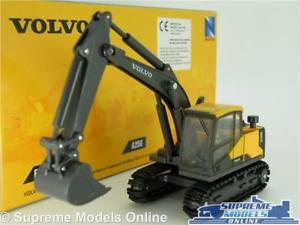backhoe: (27, 12, 268, 208)
